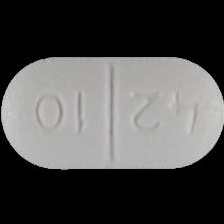0603-4210: (0, 0, 224, 224)
